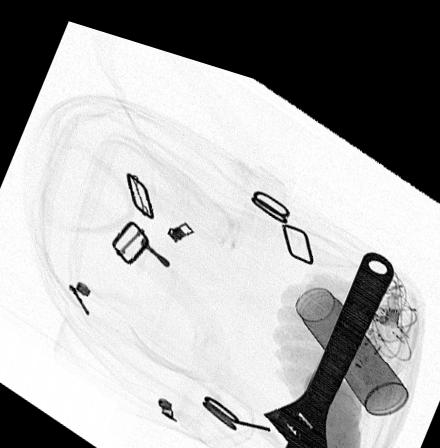Wrench: (262, 226, 396, 448)
